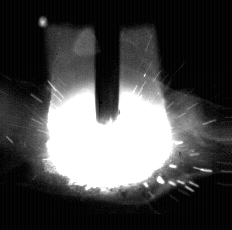arame: (95, 0, 121, 125)
poca: (48, 0, 174, 230)
